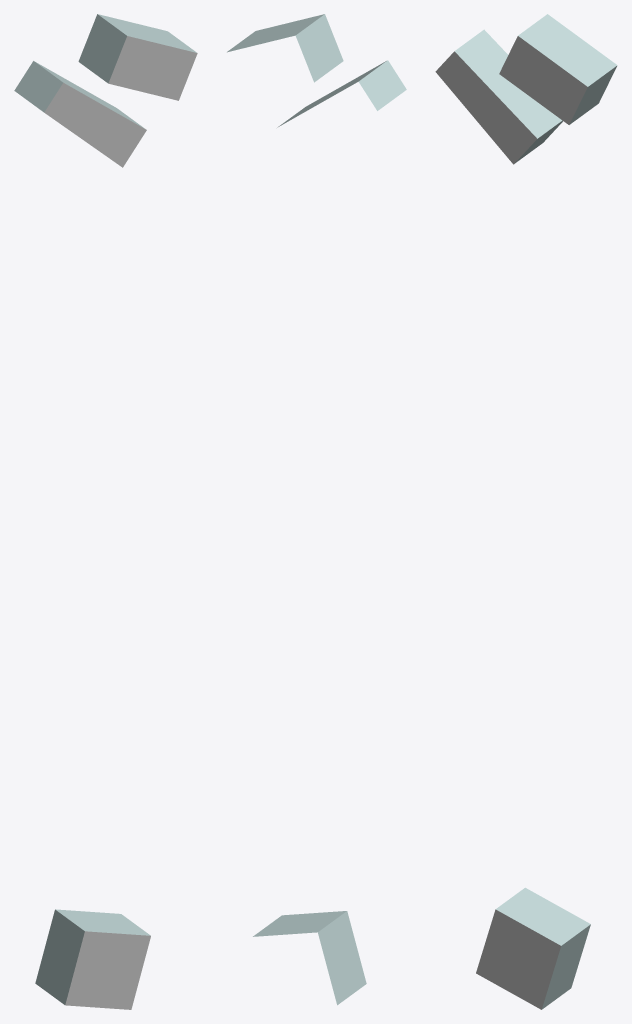
3 views of the same model, side by side, from view 1: azimuth 30°, elevation 25°; view 2: azimuth 150°, elevation 25°; view 3: azimuth 330°, elevation 25° (orthographic).
Parts seen in each view (by area): view 1: 0_2_1_2_0_0_0_1; view 2: 0_2_1_2_0_0_0_1; view 3: 0_2_1_2_0_0_0_1.
Part boxes in pixels (bbox=[...]): 0_2_1_2_0_0_0_1: bbox=[14, 14, 197, 1009]; 0_2_1_2_0_0_0_1: bbox=[227, 14, 406, 1005]; 0_2_1_2_0_0_0_1: bbox=[435, 14, 617, 1009].
Bounding box in the file's own units: 8.89 × 54.46 × 3.99.
